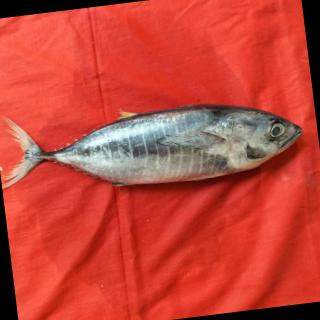Ikan: (1, 78, 317, 222)
